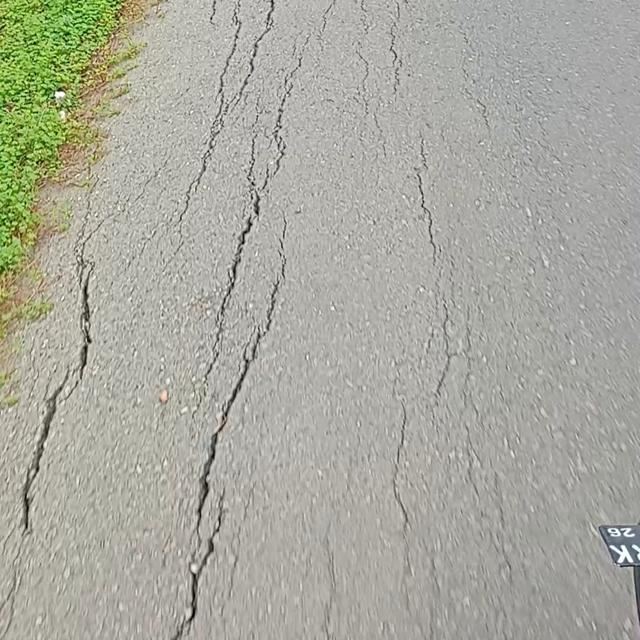Memanjang: (138, 229, 296, 640), (185, 29, 326, 394), (3, 239, 107, 542)
